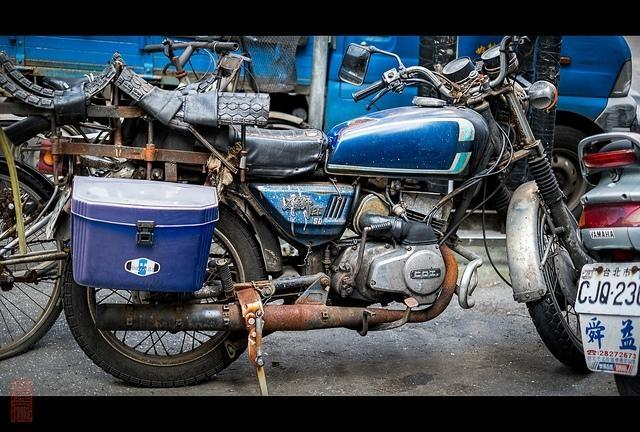motorcycle: (54, 45, 598, 386), (573, 115, 640, 397)
truck: (0, 30, 638, 218)
